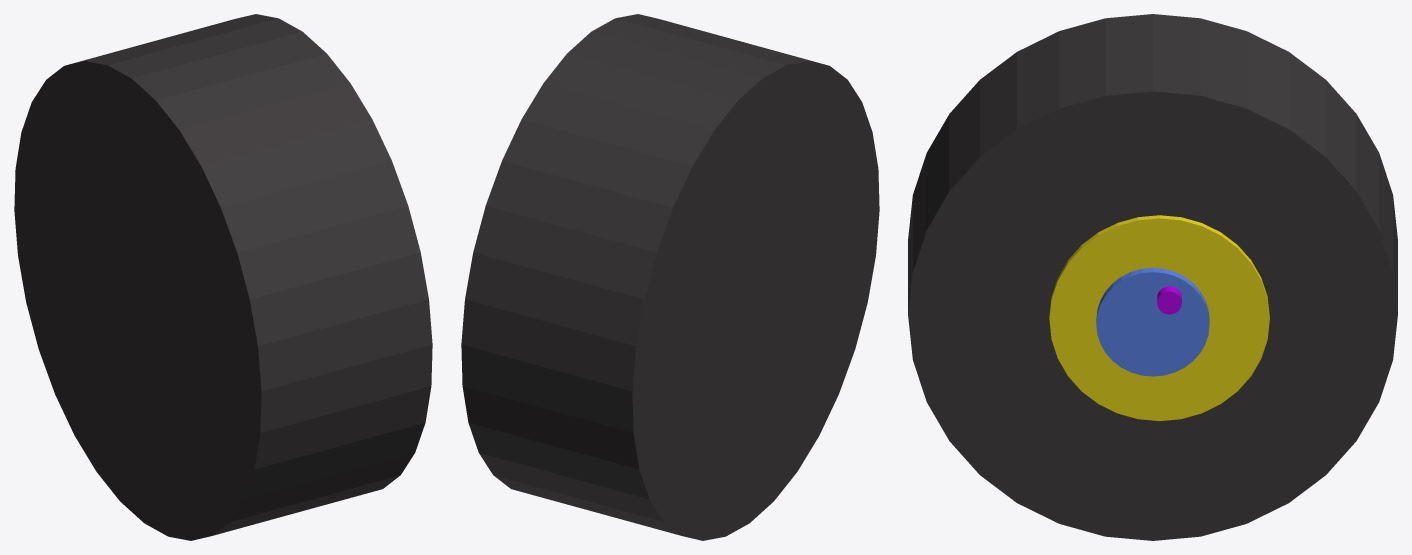
Rendered from wheel.glb.
3 views of the same model, side by side, from view 1: azimuth 30°, elevation 25°; view 2: azimuth 150°, elevation 25°; view 3: azimuth 270°, elevation 25° (orthographic).
Parts seen in each view (by area): view 1: Cylinder; view 2: Cylinder; view 3: Cylinder, Cylinder.001, Cylinder.002, Cylinder.003.
Boxes of the visible parts, x1,y1,x2,y2 form: Cylinder: [14, 14, 432, 540]; Cylinder: [461, 14, 879, 540]; Cylinder: [908, 14, 1397, 540]; Cylinder.001: [1049, 215, 1269, 421]; Cylinder.002: [1096, 267, 1209, 376]; Cylinder.003: [1157, 286, 1181, 314].
Size of the model in its own units: 0.9596 by 2.02 by 2.
